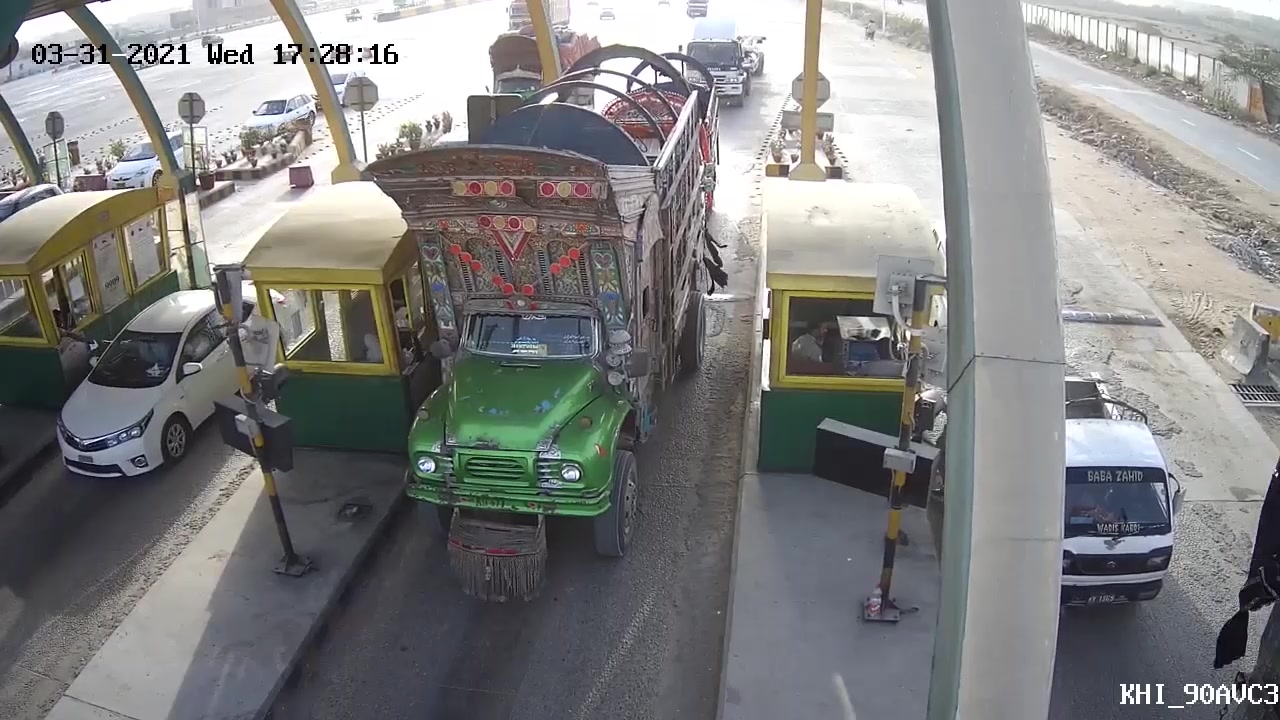F5: (352, 51, 722, 579)
